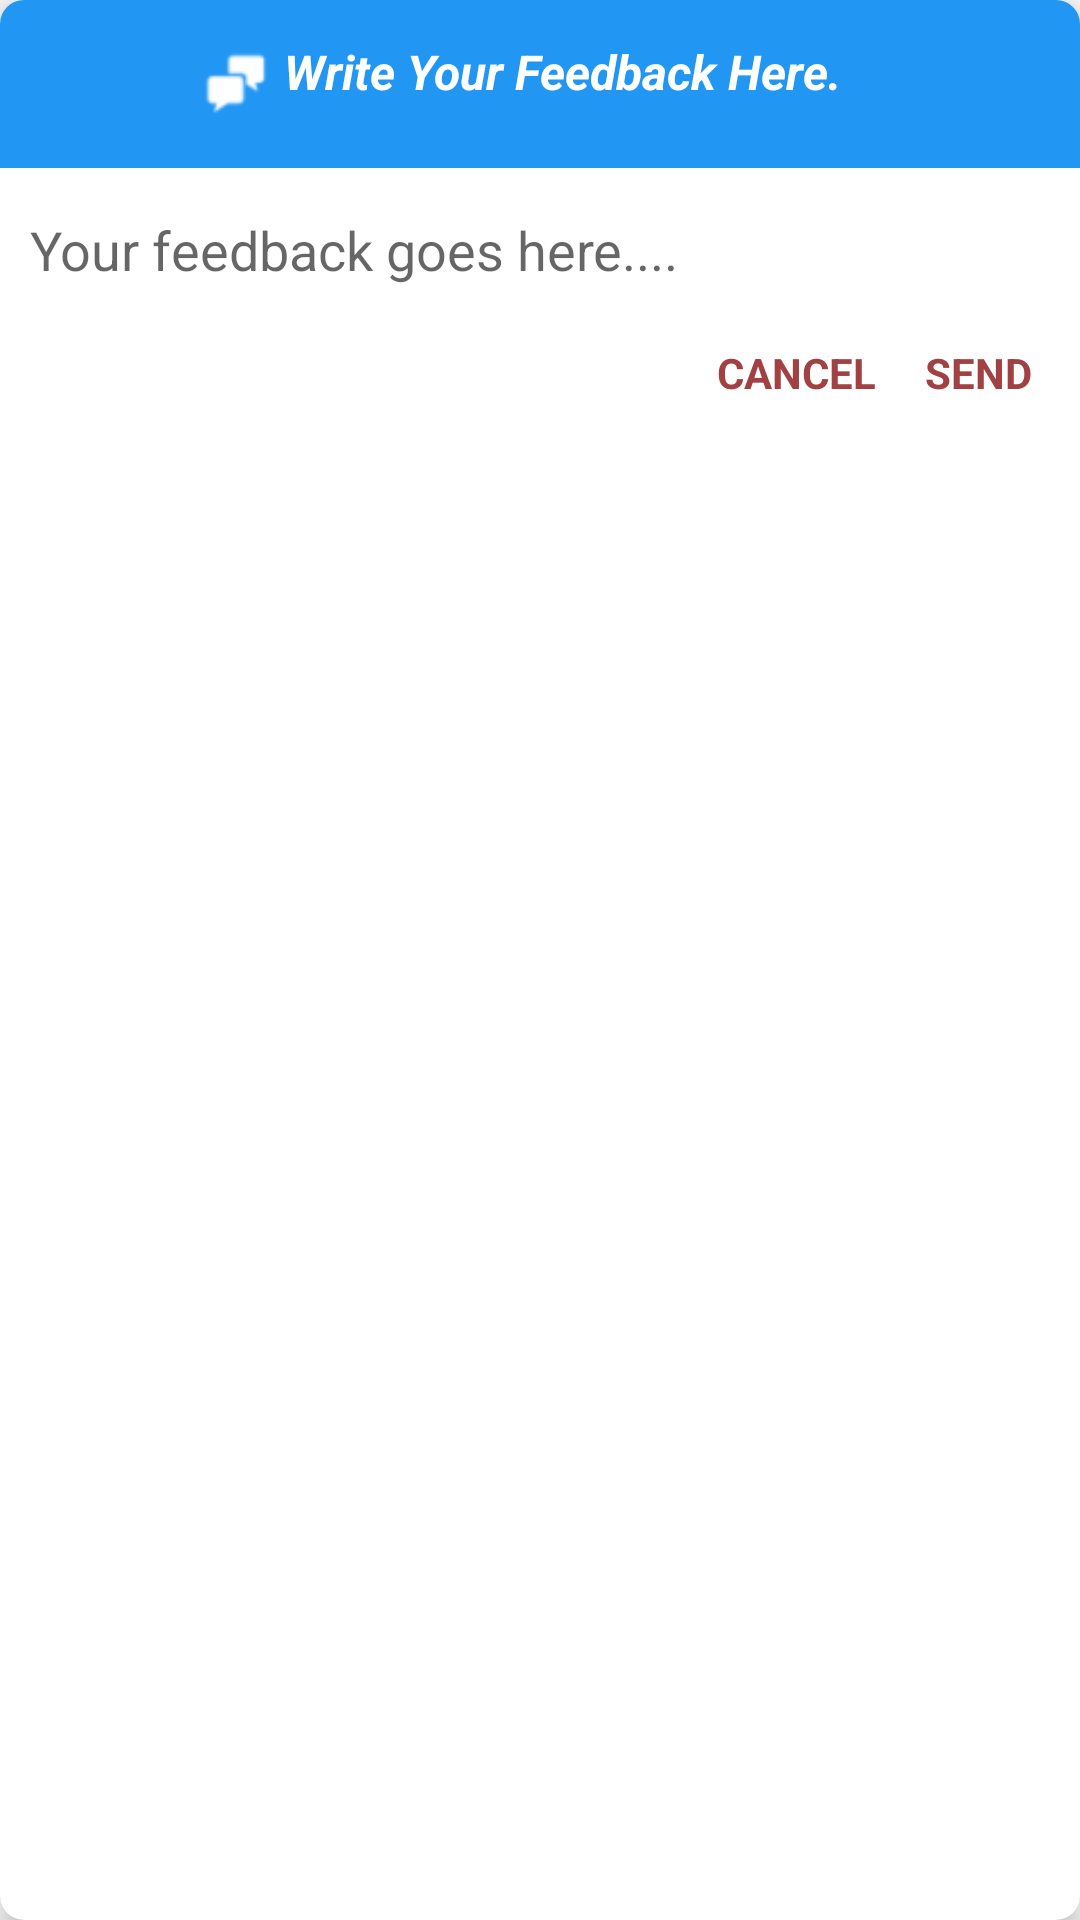

Named icons in this screenshot (1080x1920) and their centers, point (x, y):
dialog: point (236, 83)
